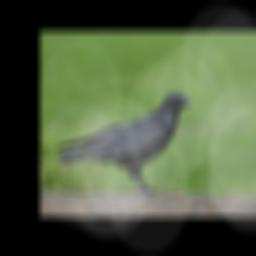Crow: (53, 91, 193, 194)
